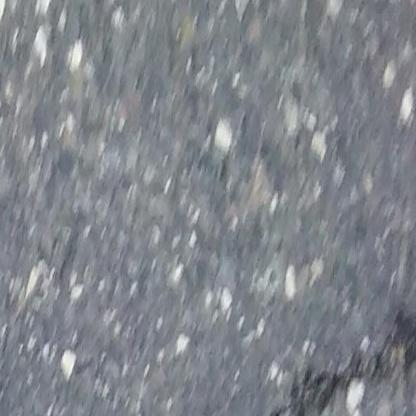Cracks: (253, 313, 416, 416)
